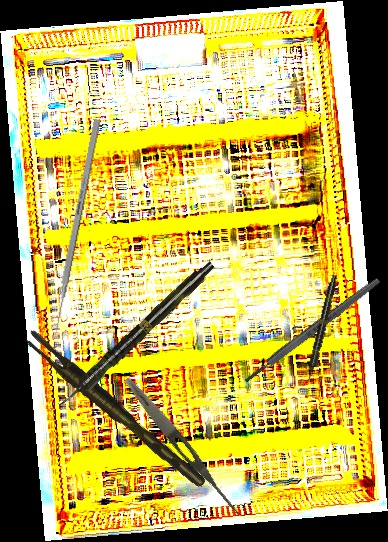Dressing Forceps: (120, 374, 246, 519)
Handpiece: (53, 257, 219, 413), (303, 274, 340, 383)
Pusher: (50, 118, 101, 342)
Scalpel Handle: (242, 276, 382, 385)
Tissue Forceps: (22, 323, 207, 498)
